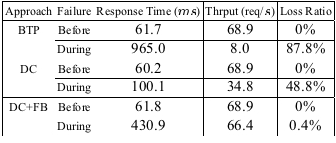column: (94, 1, 202, 142), (202, 1, 278, 143), (274, 1, 336, 143), (1, 1, 55, 143), (55, 1, 94, 143)
row: (2, 100, 333, 138), (2, 117, 336, 141), (2, 40, 334, 62), (1, 79, 336, 98), (3, 99, 334, 117), (2, 24, 334, 40), (1, 64, 334, 79)
